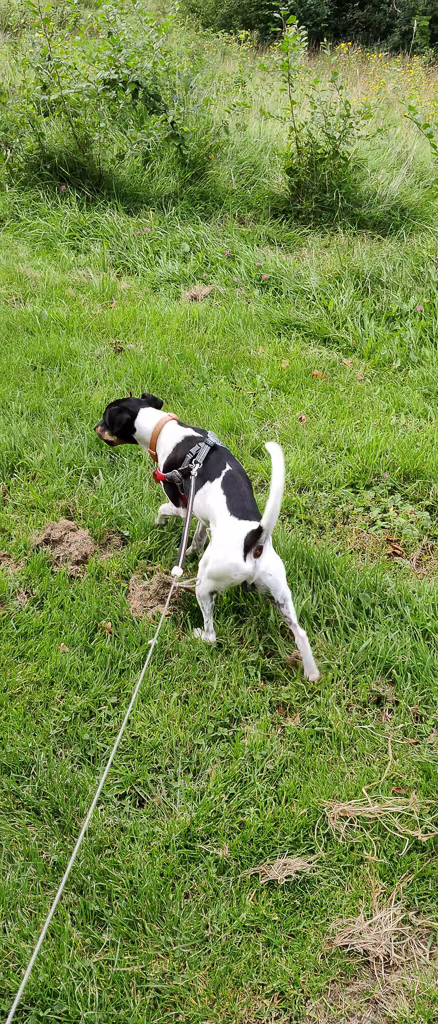Dog: (77, 386, 333, 691)
